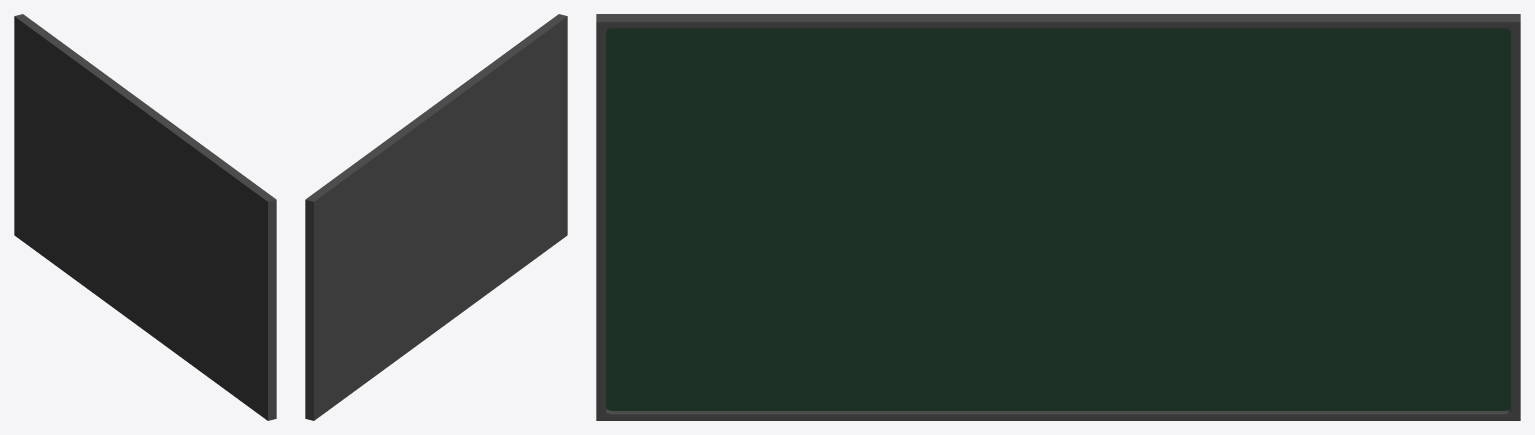
The model's file is доска.fbx.
The picture shows the model from 3 angles, left to right: view 1: azimuth 30°, elevation 25°; view 2: azimuth 150°, elevation 25°; view 3: azimuth 270°, elevation 25°; orthographic projection. The views are drawn at different scales.
Visible parts, largest first — view 1: Cube; view 2: Cube; view 3: Cube.
Part boxes in pixels (box(x1,y1,x2,y2)): Cube: box(14, 14, 276, 420); Cube: box(305, 14, 567, 420); Cube: box(596, 14, 1520, 420).
Size of the model in its own units: 8.53 by 200 by 420.
